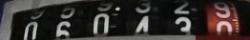digits: (174, 17, 192, 38), (94, 14, 109, 37), (135, 16, 149, 38), (55, 20, 70, 40), (215, 21, 232, 38), (24, 22, 38, 40)
